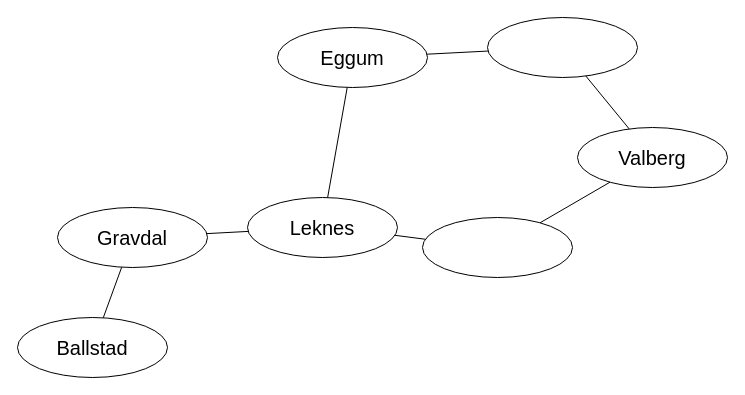
Image size: 745x395. Some labels were removed from this diagram. The shapes that lost their labels are listed below. From the top down, each one's centre as x and y in pixels, then its label:
At (x=562, y=47): "Kvales".
At (x=497, y=247): "Stamsund".
